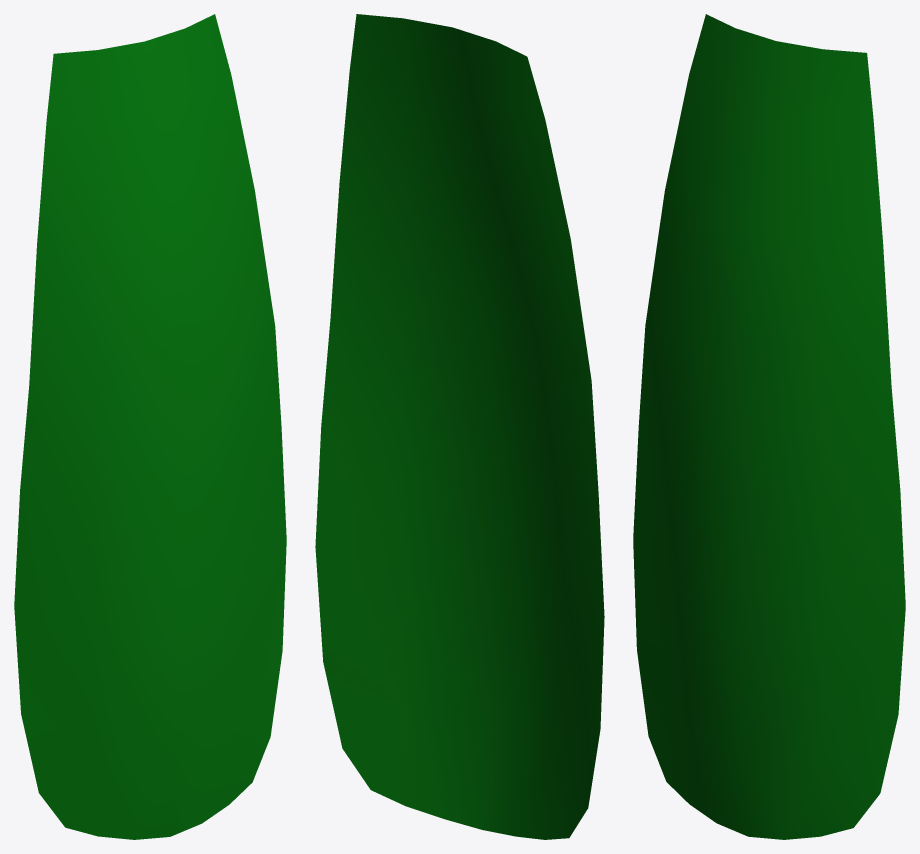
File: MD_nail_square_HandR.Middle.fbx
3 renders of one model, left to right at view 1: azimuth 30°, elevation 25°; view 2: azimuth 150°, elevation 25°; view 3: azimuth 330°, elevation 25°, orthographic. The views are drawn at different scales.
Parts seen in each view (by area): view 1: MD_nail_square_HandR.Middle; view 2: MD_nail_square_HandR.Middle; view 3: MD_nail_square_HandR.Middle.
Boxes of the visible parts, bbox=[...] form: MD_nail_square_HandR.Middle: bbox=[14, 14, 286, 839]; MD_nail_square_HandR.Middle: bbox=[315, 14, 604, 839]; MD_nail_square_HandR.Middle: bbox=[633, 14, 905, 839].
Size of the model in its own units: 0.7587 by 2.07 by 0.2252.
